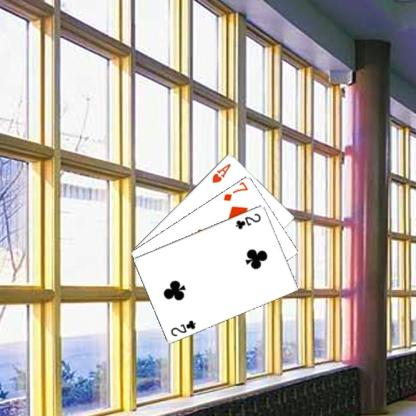2C: (233, 210, 262, 230), (168, 318, 197, 338)
7D: (221, 180, 249, 202)
AH: (210, 161, 232, 184)
